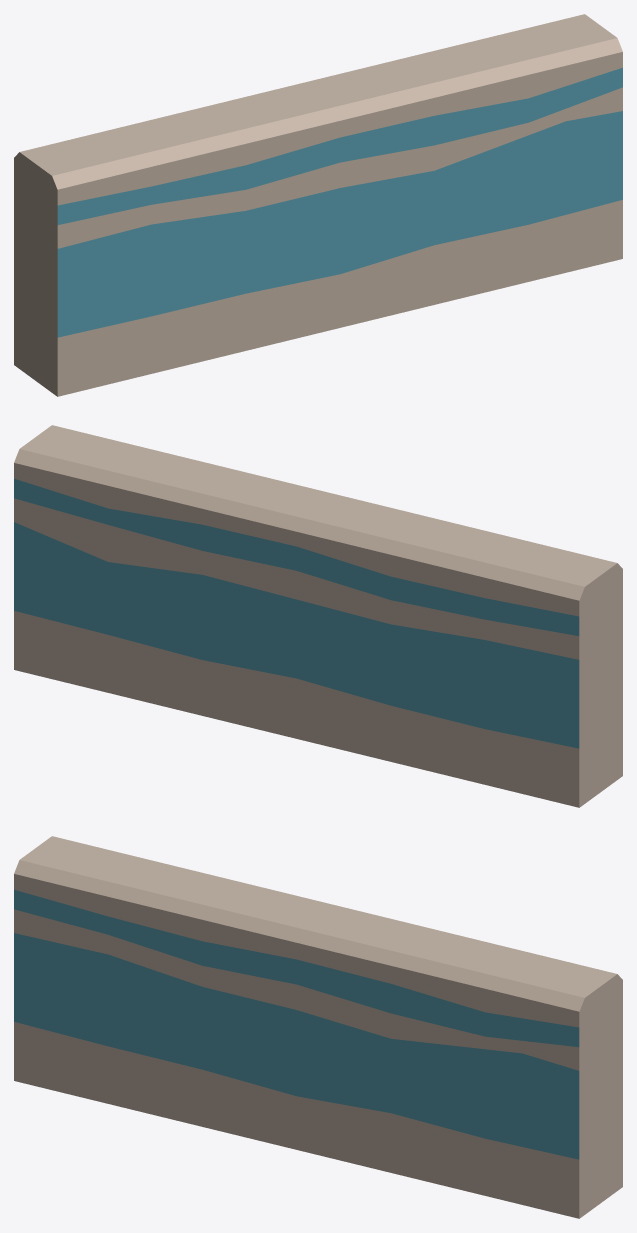
The model's file is greek_wall_3_short.fbx.
3 renders of one model, top to bottom at view 1: azimuth 30°, elevation 25°; view 2: azimuth 150°, elevation 25°; view 3: azimuth 330°, elevation 25°, orthographic.
Visible parts, largest first — view 1: Cube.076; view 2: Cube.076; view 3: Cube.076.
Part boxes in pixels (x1,y1,x2,y2): Cube.076: [14, 14, 622, 396]; Cube.076: [14, 425, 622, 807]; Cube.076: [14, 836, 622, 1218].
Bounding box in the file's own units: 300 × 110 × 40.
